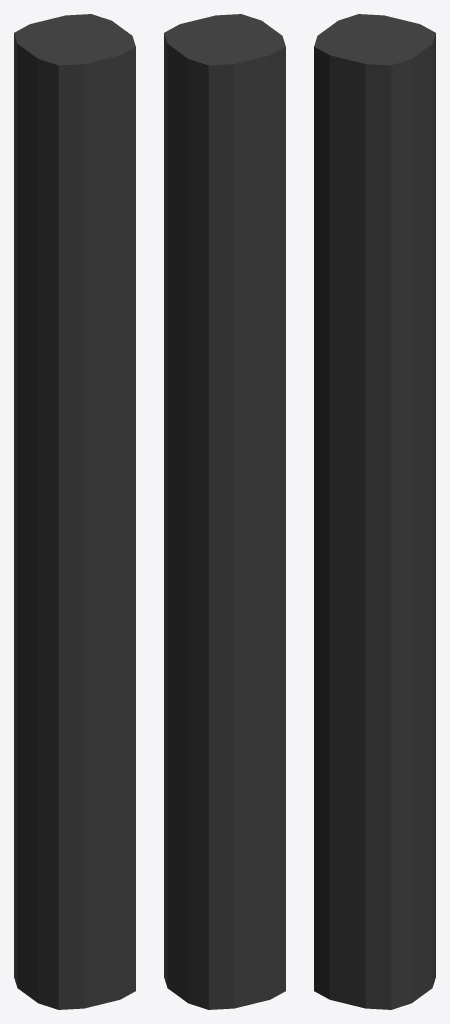
Rendered from poteau.obj.
3 views of the same model, side by side, from view 1: azimuth 30°, elevation 25°; view 2: azimuth 210°, elevation 25°; view 3: azimuth 330°, elevation 25° (orthographic).
Visible parts, largest first — view 1: Cube_Cube.001; view 2: Cube_Cube.001; view 3: Cube_Cube.001.
Part boxes in pixels (x1,y1,x2,y2): Cube_Cube.001: (14,14,135,1009); Cube_Cube.001: (164,14,285,1009); Cube_Cube.001: (314,14,435,1009).
Bounding box in the file's own units: 0.1058 × 1.01 × 0.1058.
1 material, 1 textured.
